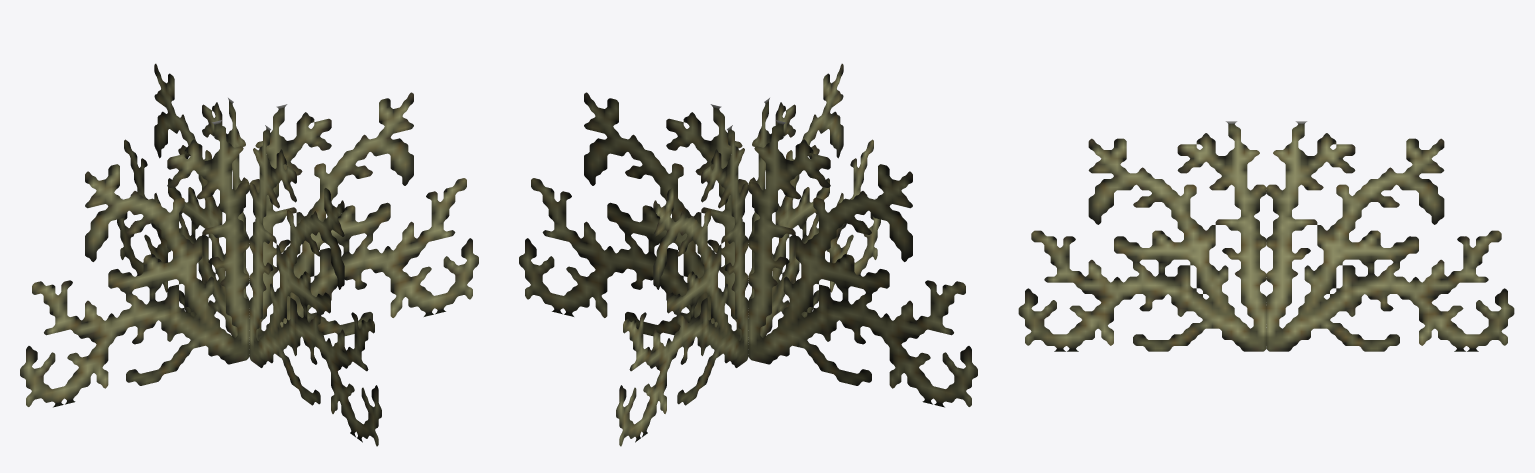
The picture shows the model from 3 angles, left to right: view 1: azimuth 30°, elevation 25°; view 2: azimuth 150°, elevation 25°; view 3: azimuth 270°, elevation 25°; orthographic projection. The views are drawn at different scales.
Visible parts, largest first — view 1: T1L2M002_23; view 2: T1L2M002_23; view 3: T1L2M002_23.
Part boxes in pixels (x1,y1,x2,y2): T1L2M002_23: (20,63,478,446); T1L2M002_23: (519,63,977,446); T1L2M002_23: (1018,121,1514,351).
Bounding box in the file's own units: 2 × 1 × 2.
